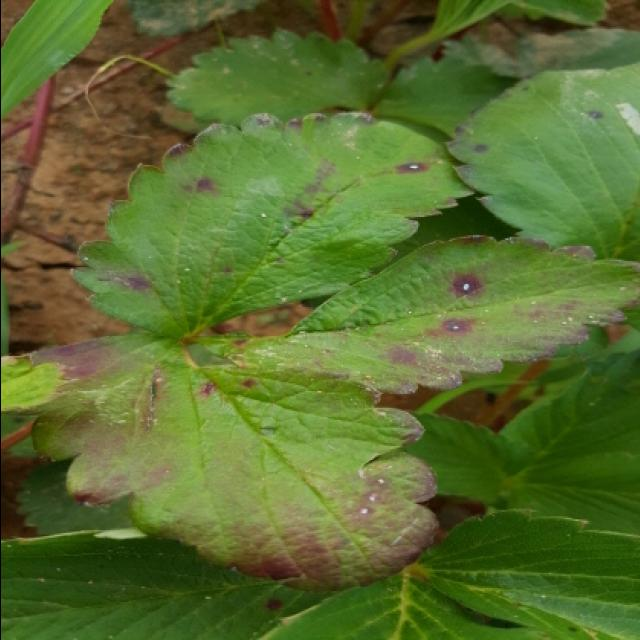Leaf Spot: (2, 333, 445, 592), (66, 108, 477, 338), (197, 234, 640, 394), (444, 61, 640, 260), (2, 526, 333, 638)
